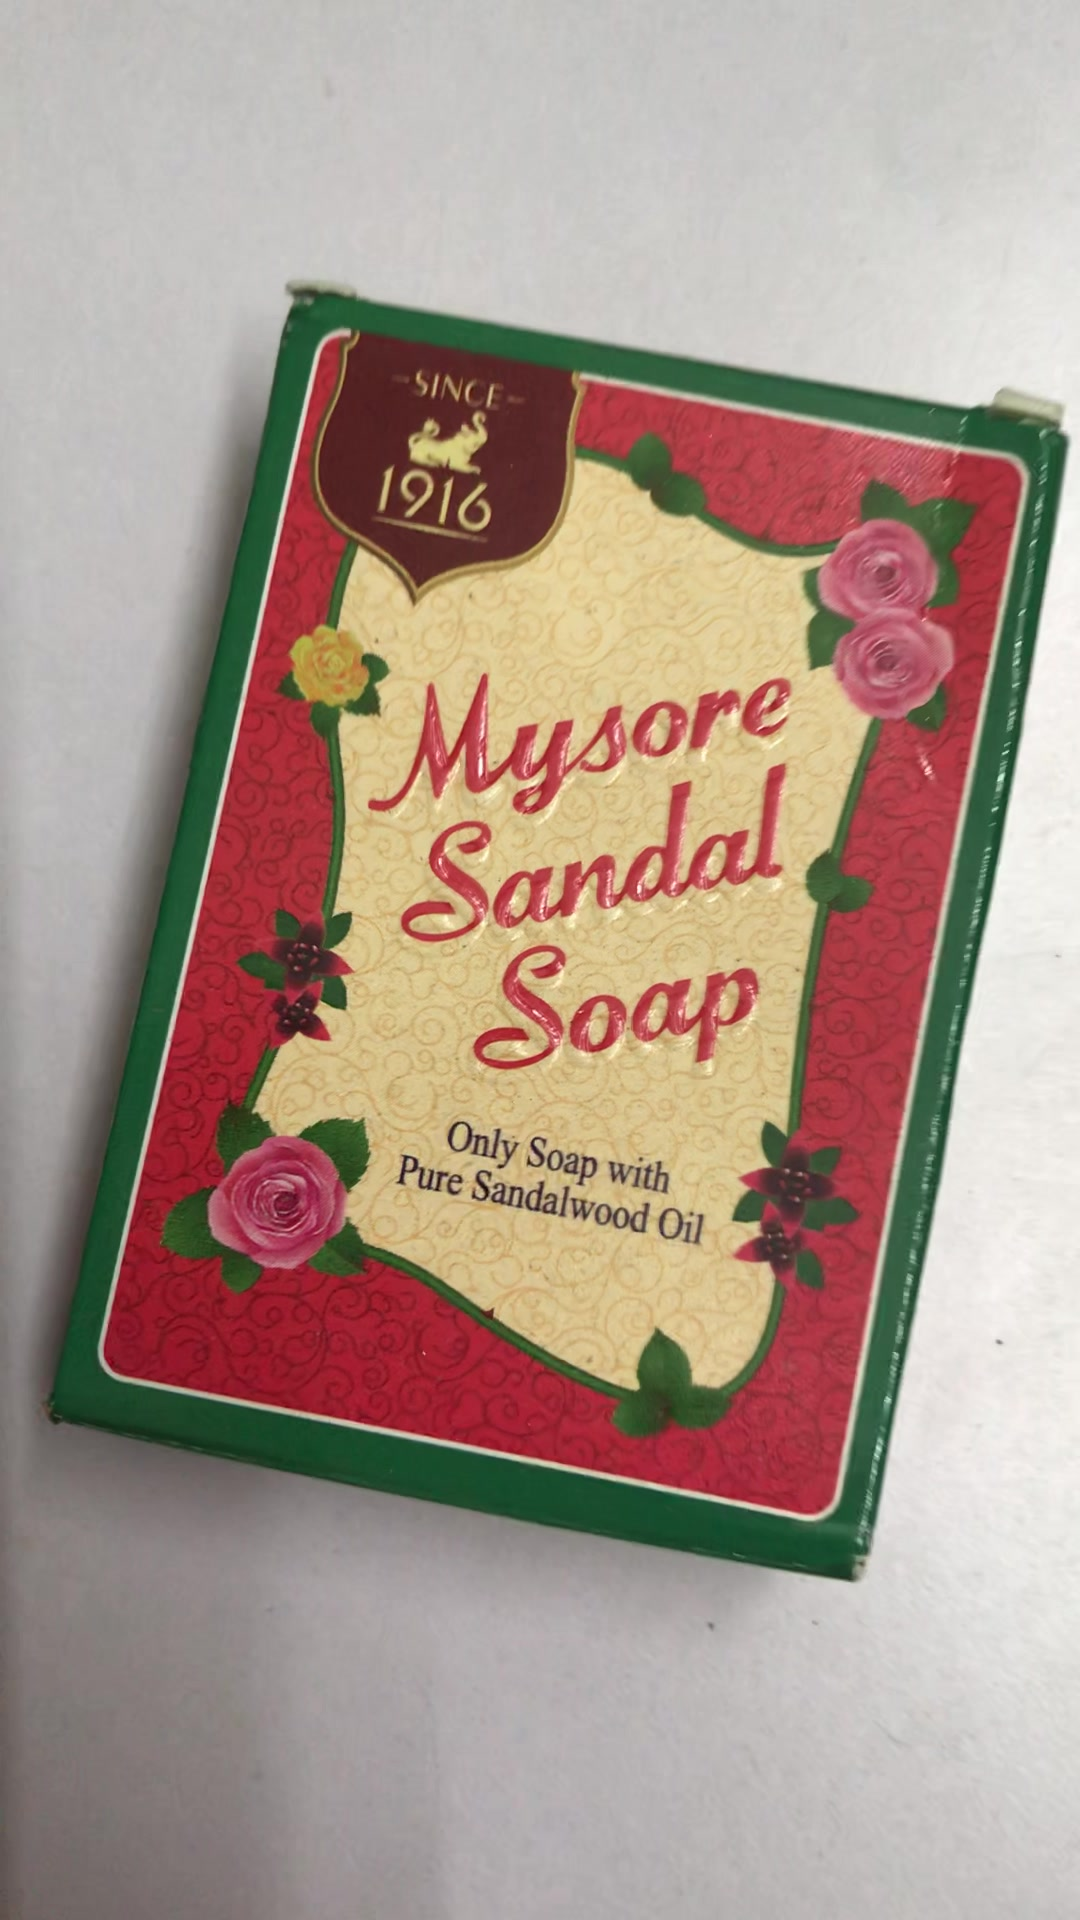mysore sandal soap: (49, 281, 1068, 1582)
